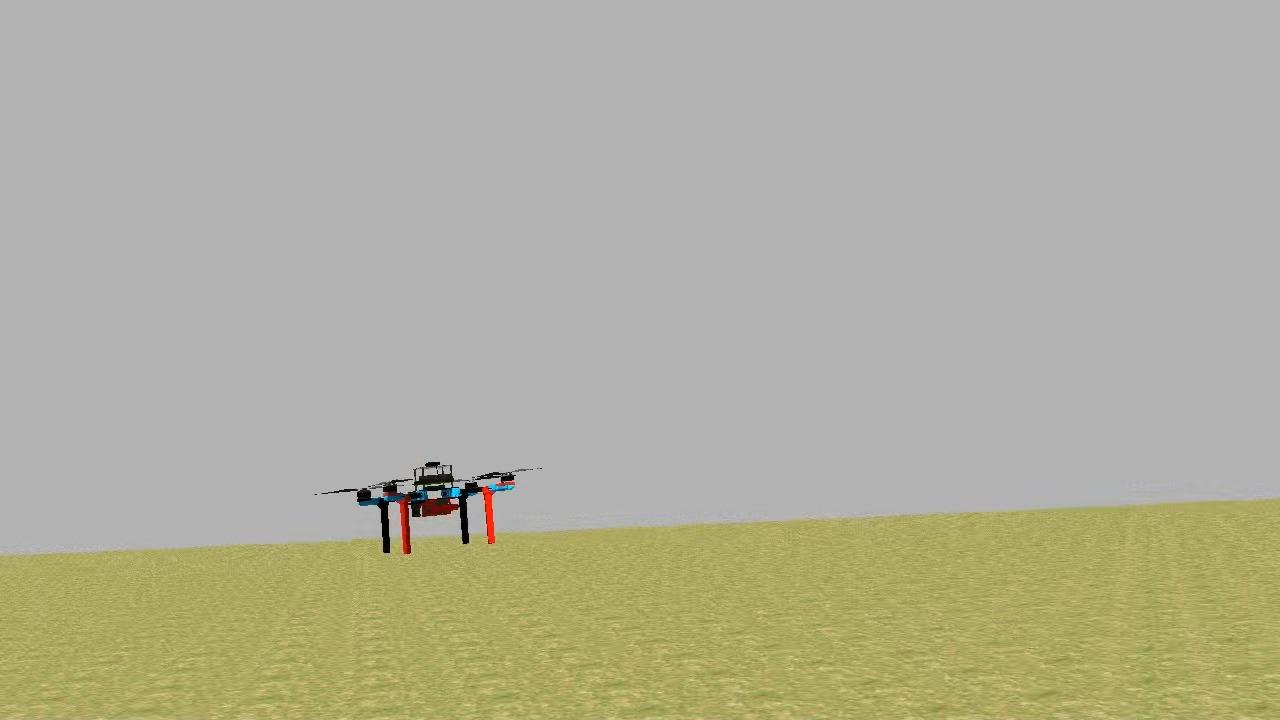UAV: (350, 456, 523, 560)
